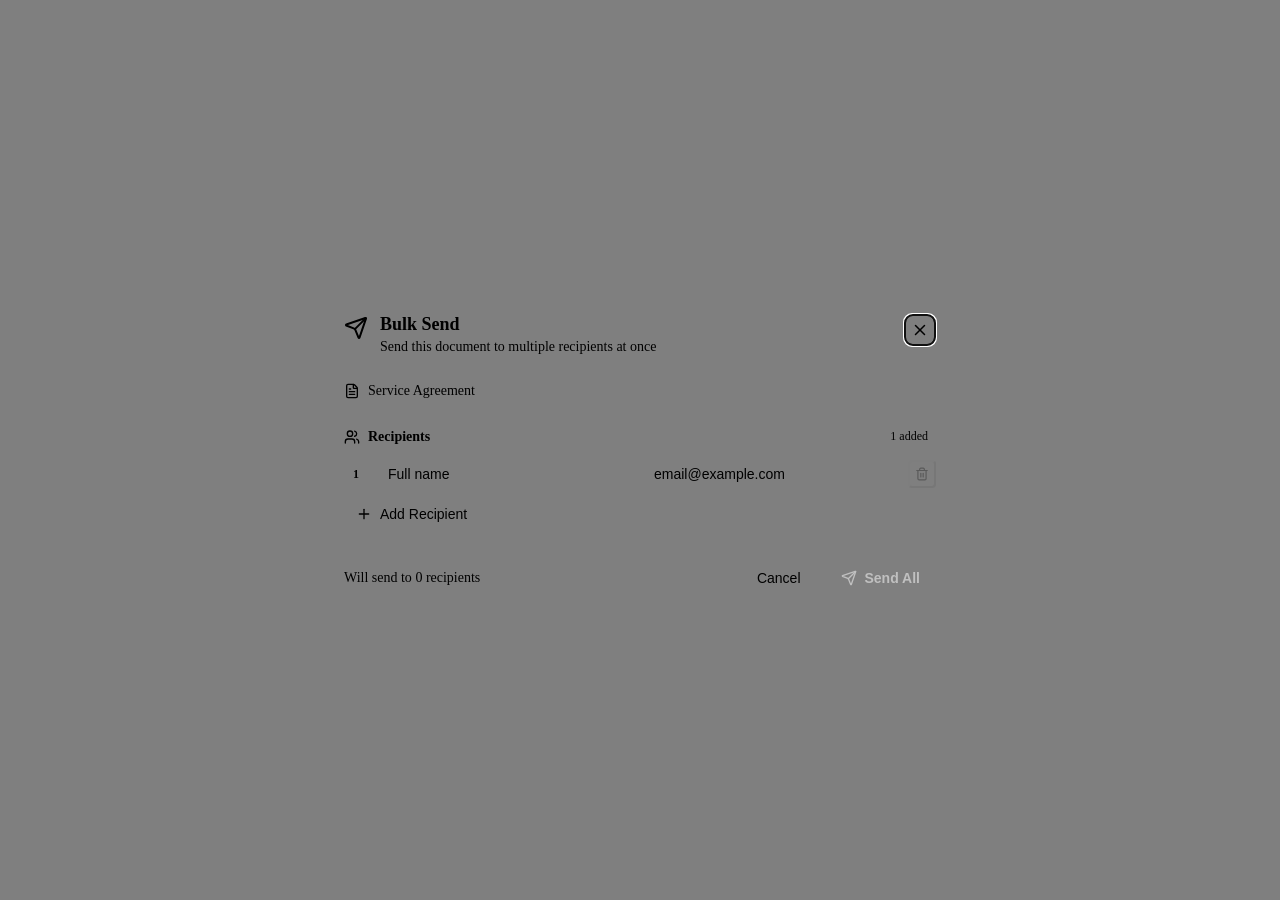
Test: BulkSendModal › shows preview count of valid recipients
Expected: the text "Will send to 0 recipients" is shown, [344,570,480,586]
Type "Alice" into the field named "Recipient 1 name".
click(505, 474); type("Alice")  # box [376,458,634,490]
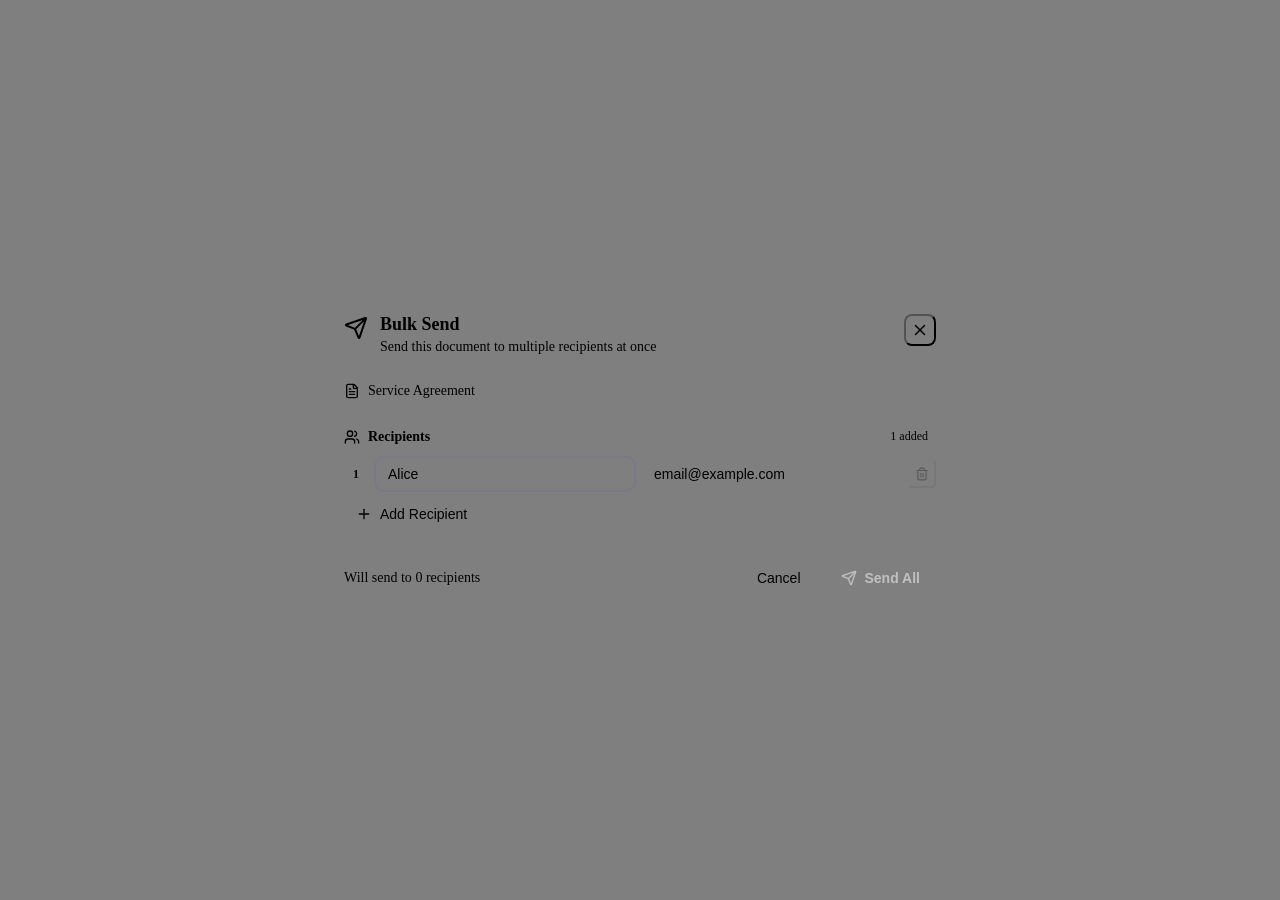
Type "alice@example.com" into the field named "Recipient 1 email".
click(771, 474); type("alice@example.com")  # box [642,458,900,490]
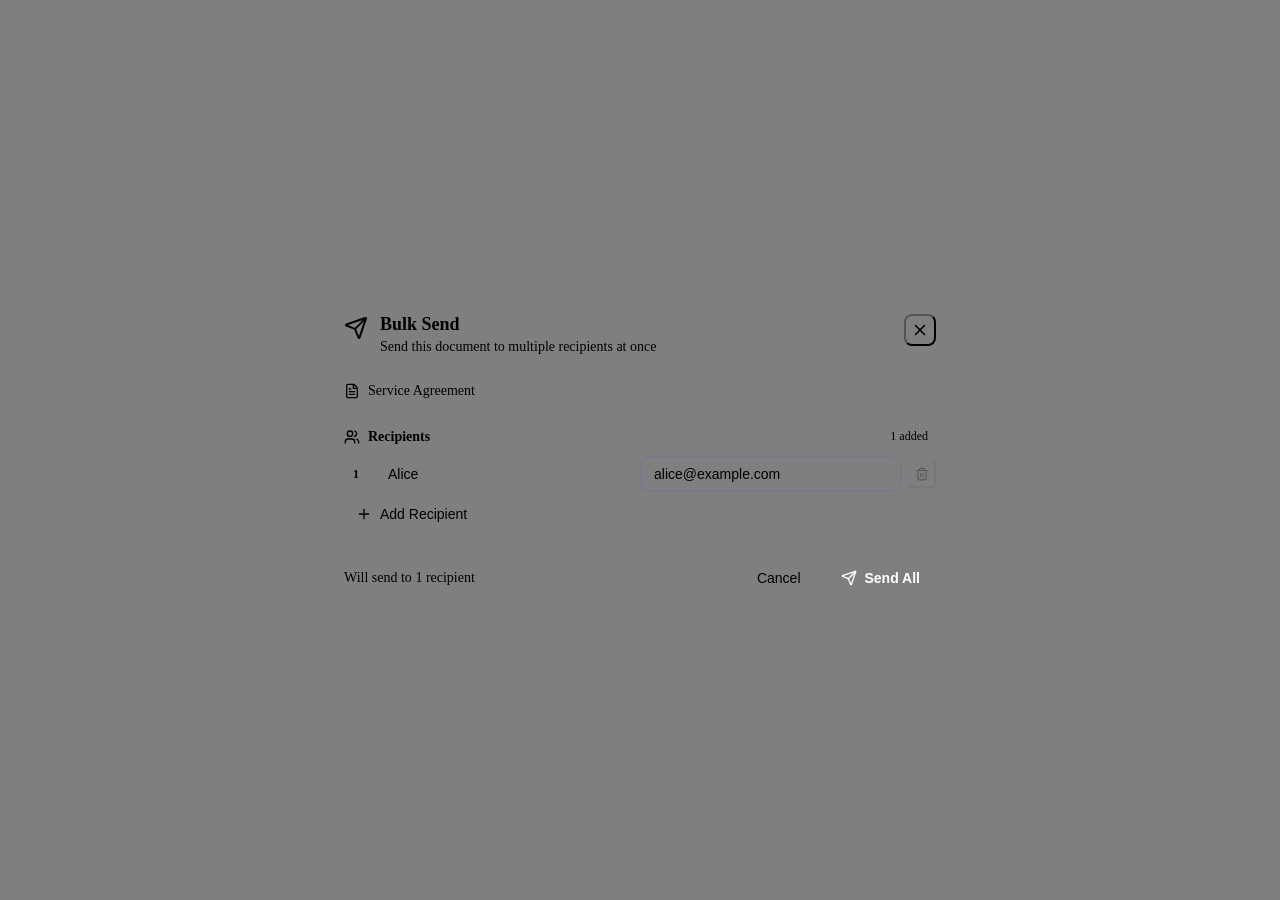
Now the text "Will send to 1 recipient" is shown, box [344,570,475,586]
